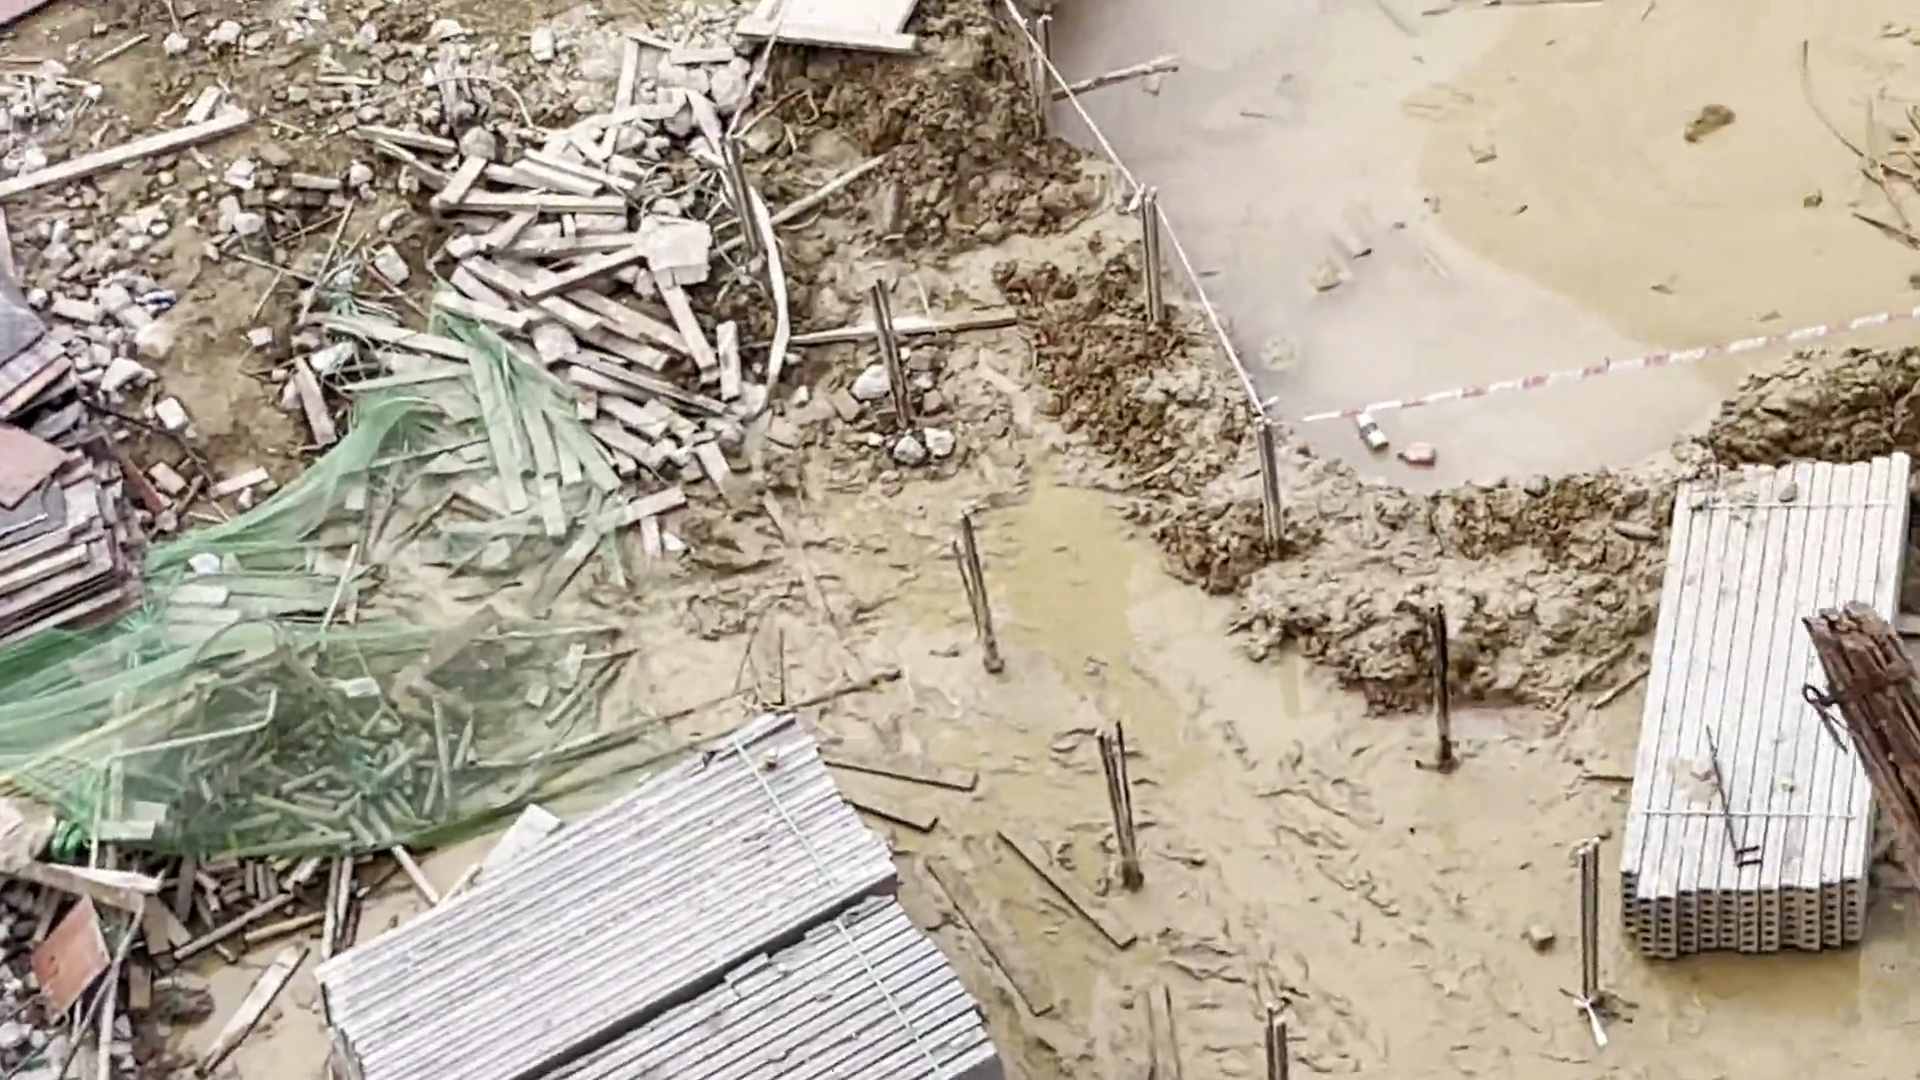board: (5, 291, 123, 626)
